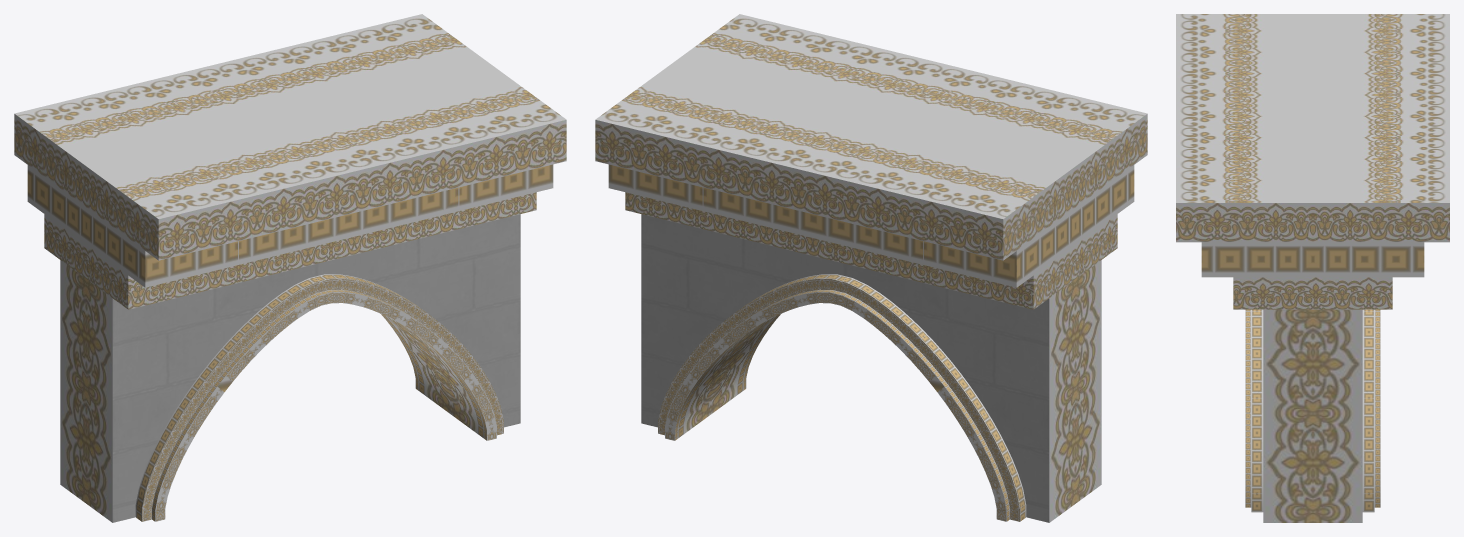
Rendered from SM_arch.glb.
3 renders of one model, left to right at view 1: azimuth 30°, elevation 25°; view 2: azimuth 150°, elevation 25°; view 3: azimuth 270°, elevation 25°, orthographic. The views are drawn at different scales.
Visible parts, largest first — view 1: SM_arch; view 2: SM_arch; view 3: SM_arch.
Boxes of the visible parts, left/top/right/bottom form: SM_arch: left=14, top=14, right=566, bottom=522; SM_arch: left=595, top=14, right=1147, bottom=522; SM_arch: left=1176, top=14, right=1449, bottom=522.
Size of the model in its own units: 3.8 by 3 by 2.33.
2 materials, 2 textured.
